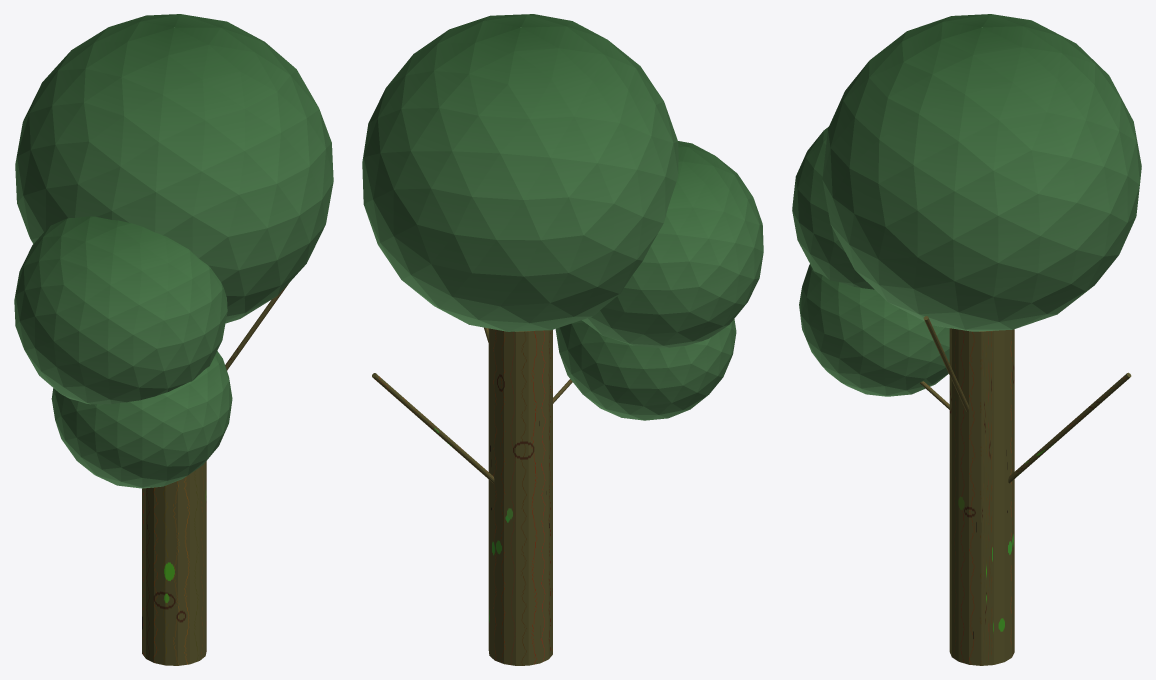
The model's file is tree_8.glb.
3 renders of one model, left to right at view 1: azimuth 30°, elevation 25°; view 2: azimuth 150°, elevation 25°; view 3: azimuth 270°, elevation 25°, orthographic.
Parts seen in each view (by area): view 1: tree_8_crown0, tree_8_crown1, tree_8_crown2, tree_8_trunk, tree_8_branch2; view 2: tree_8_crown0, tree_8_trunk, tree_8_crown1, tree_8_crown2, tree_8_branch0; view 3: tree_8_crown0, tree_8_trunk, tree_8_crown2, tree_8_crown1, tree_8_branch0, tree_8_branch2.
Boxes of the visible parts, bbox=[...] form: tree_8_crown0: bbox=[15, 14, 333, 323]; tree_8_crown1: bbox=[14, 216, 227, 404]; tree_8_crown2: bbox=[51, 351, 232, 488]; tree_8_trunk: bbox=[142, 461, 206, 665]; tree_8_branch2: bbox=[225, 283, 288, 370]; tree_8_crown0: bbox=[362, 14, 678, 331]; tree_8_trunk: bbox=[488, 328, 552, 665]; tree_8_crown1: bbox=[582, 141, 763, 347]; tree_8_crown2: bbox=[555, 319, 736, 420]; tree_8_branch0: bbox=[372, 373, 494, 483]; tree_8_crown0: bbox=[822, 14, 1141, 331]; tree_8_trunk: bbox=[949, 328, 1014, 665]; tree_8_crown2: bbox=[799, 264, 949, 396]; tree_8_crown1: bbox=[792, 126, 874, 289]; tree_8_branch0: bbox=[1008, 372, 1131, 483]; tree_8_branch2: bbox=[923, 316, 969, 411].
Bounding box in the file's own units: 1.57 × 2.9 × 1.47.
Materials: 8 (8 with a texture image).
